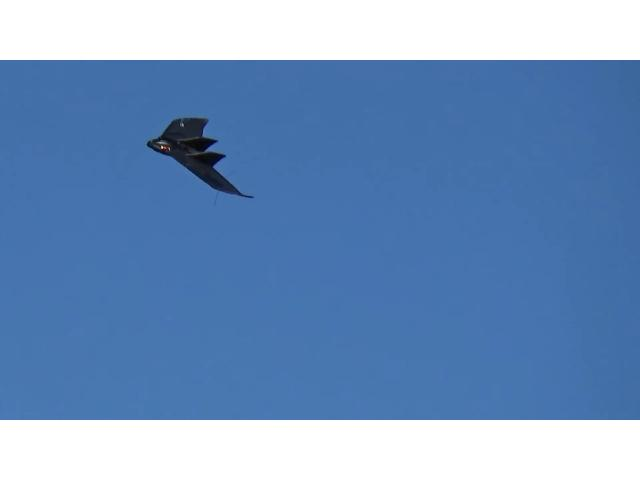Anti-Drone: (138, 94, 264, 214)
